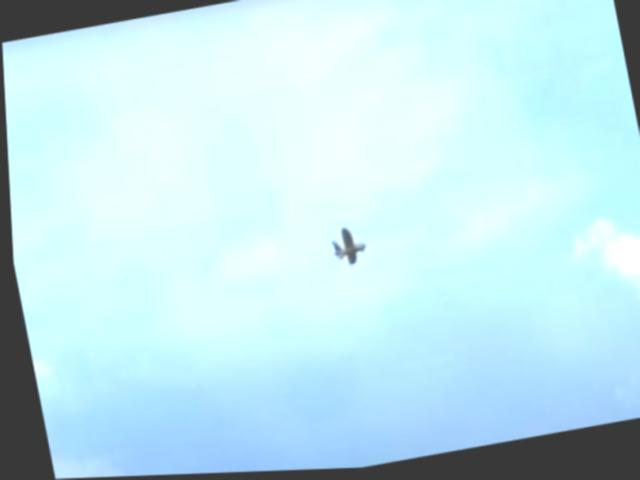uav: (324, 224, 368, 276)
